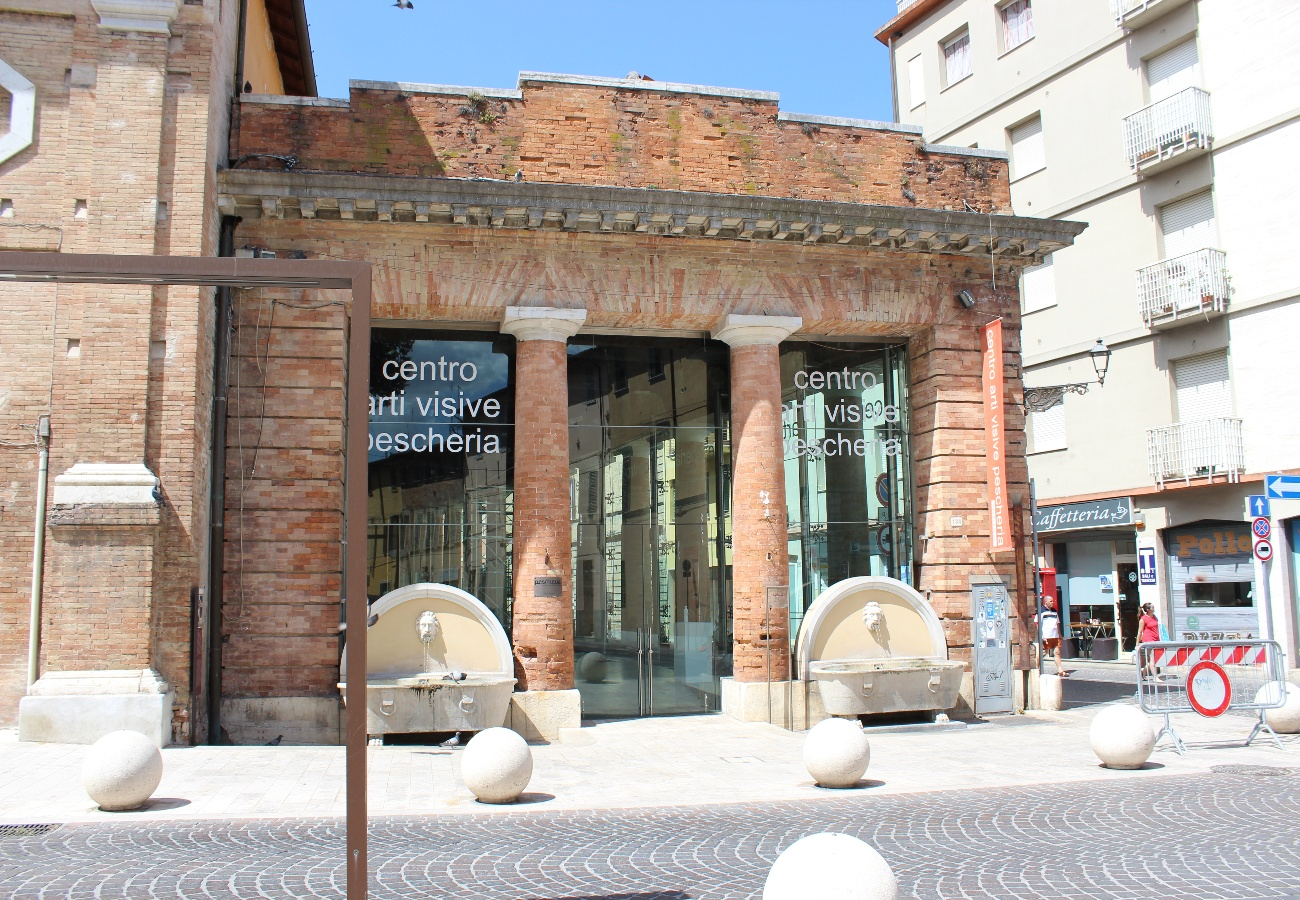Centro Arti Visive Pescheria: (227, 69, 1087, 742)
